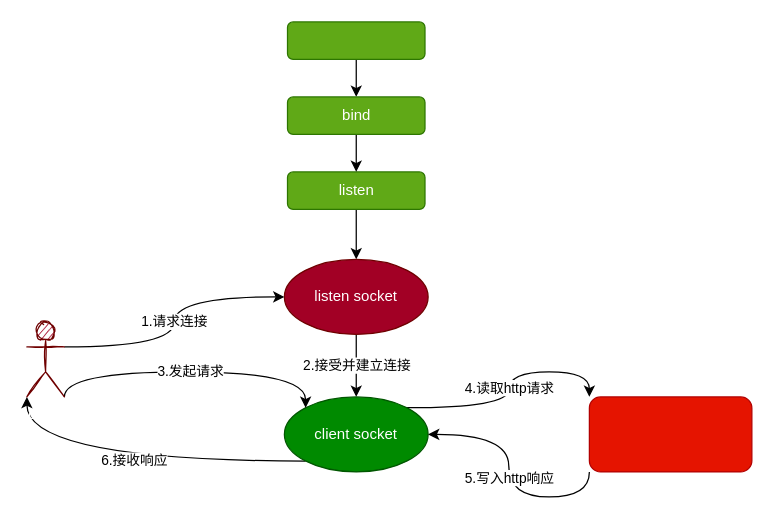
This 774x519 diagram has some shape labels left out. The shapes that lost their labels are listed below. From the top down, each one's box as (x1, y1, x2, y2) in pixels, then its label:
(286, 21, 425, 59): socket
(588, 396, 752, 472): handle request
